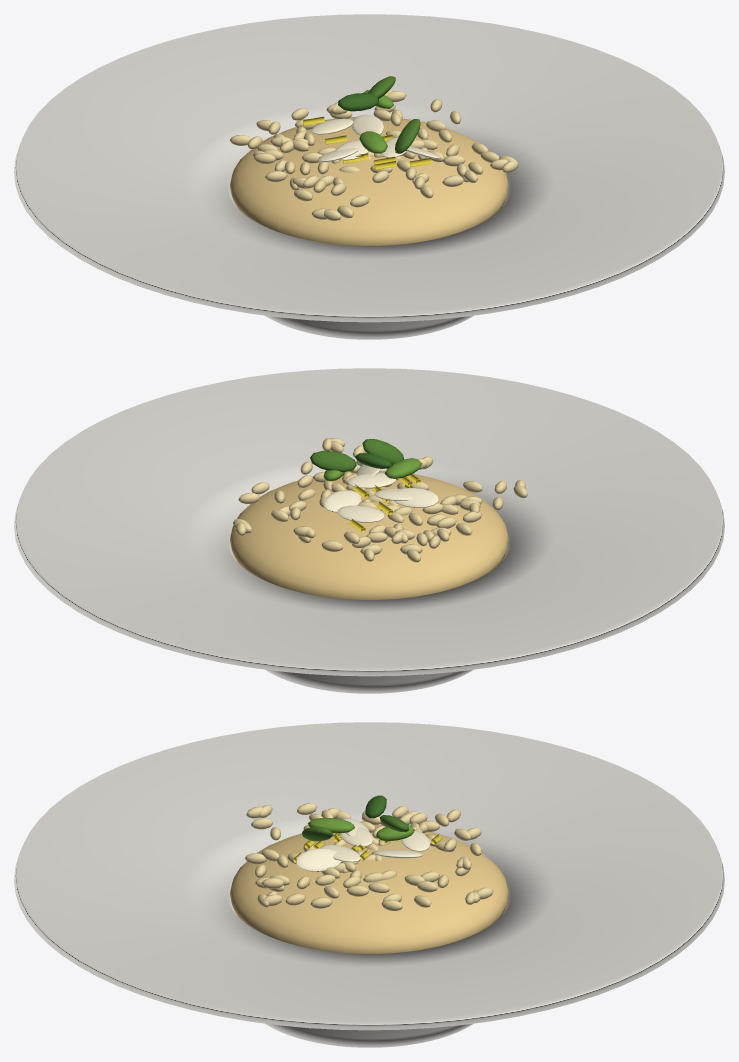
Rendered from risoto-de-parmesao.glb.
3 views of the same model, one above another, from view 1: azimuth 30°, elevation 25°; view 2: azimuth 150°, elevation 25°; view 3: azimuth 270°, elevation 25° (orthographic).
Parts seen in each view (by area): view 1: risoto-de-parmesao; view 2: risoto-de-parmesao; view 3: risoto-de-parmesao.
Boxes of the visible parts, x1,y1,x2,y2 form: risoto-de-parmesao: (14,14,724,339); risoto-de-parmesao: (14,368,724,693); risoto-de-parmesao: (14,722,724,1047).
Bounding box in the file's own units: 0.28 × 0.0831 × 0.28.
